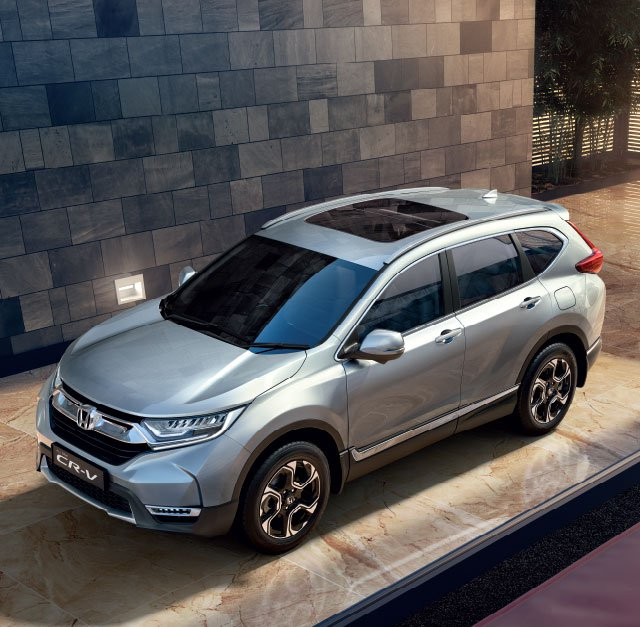car: (31, 184, 612, 552)
